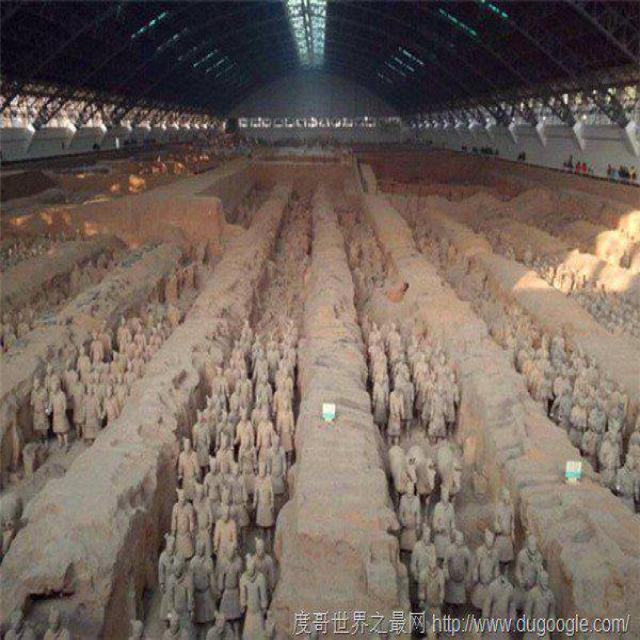other: (507, 171, 638, 303)
